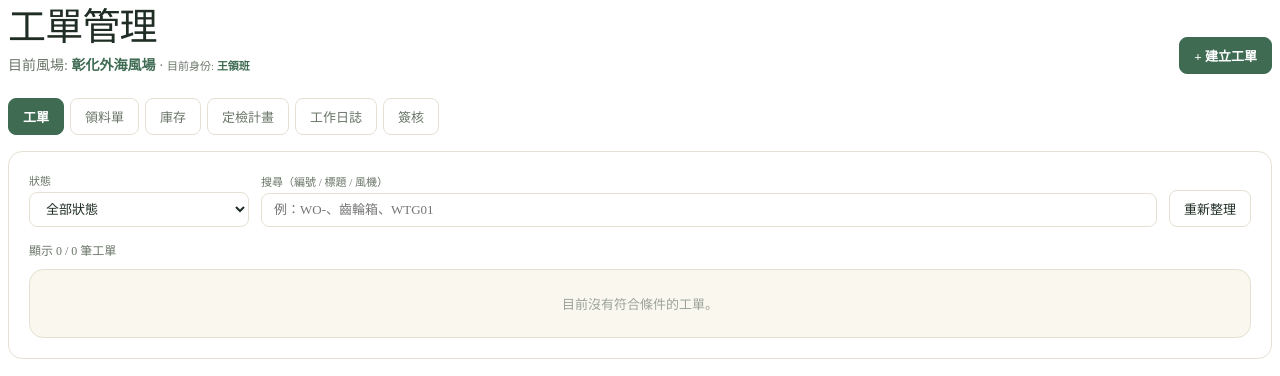
Test case: WorkflowPage — 定檢計畫「執行排程檢查」接線 › spawn 成功顯示筆數訊息
The image size is (1280, 376).
Click the button with aria-label "定檢計畫頁籤" at point(248, 116), box left=207, top=98, right=289, bottom=135
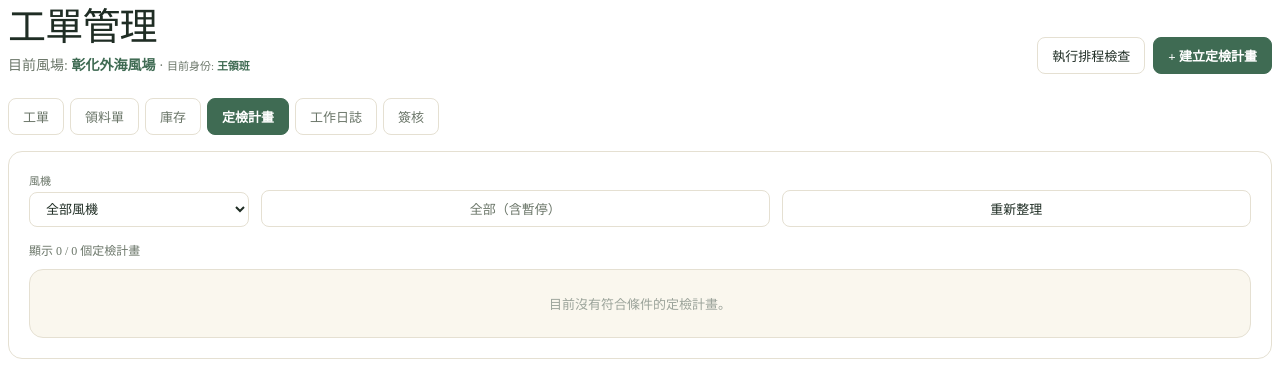
Click the button "執行排程檢查" at point(1091, 55), box left=1037, top=37, right=1145, bottom=74
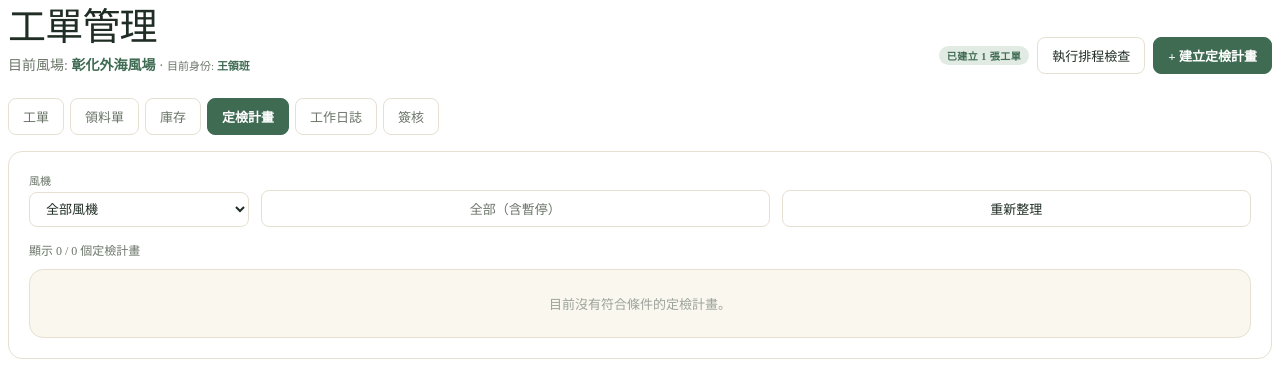
Result: the text "已建立 1 張工單" is shown at left=939, top=46, right=1029, bottom=65
